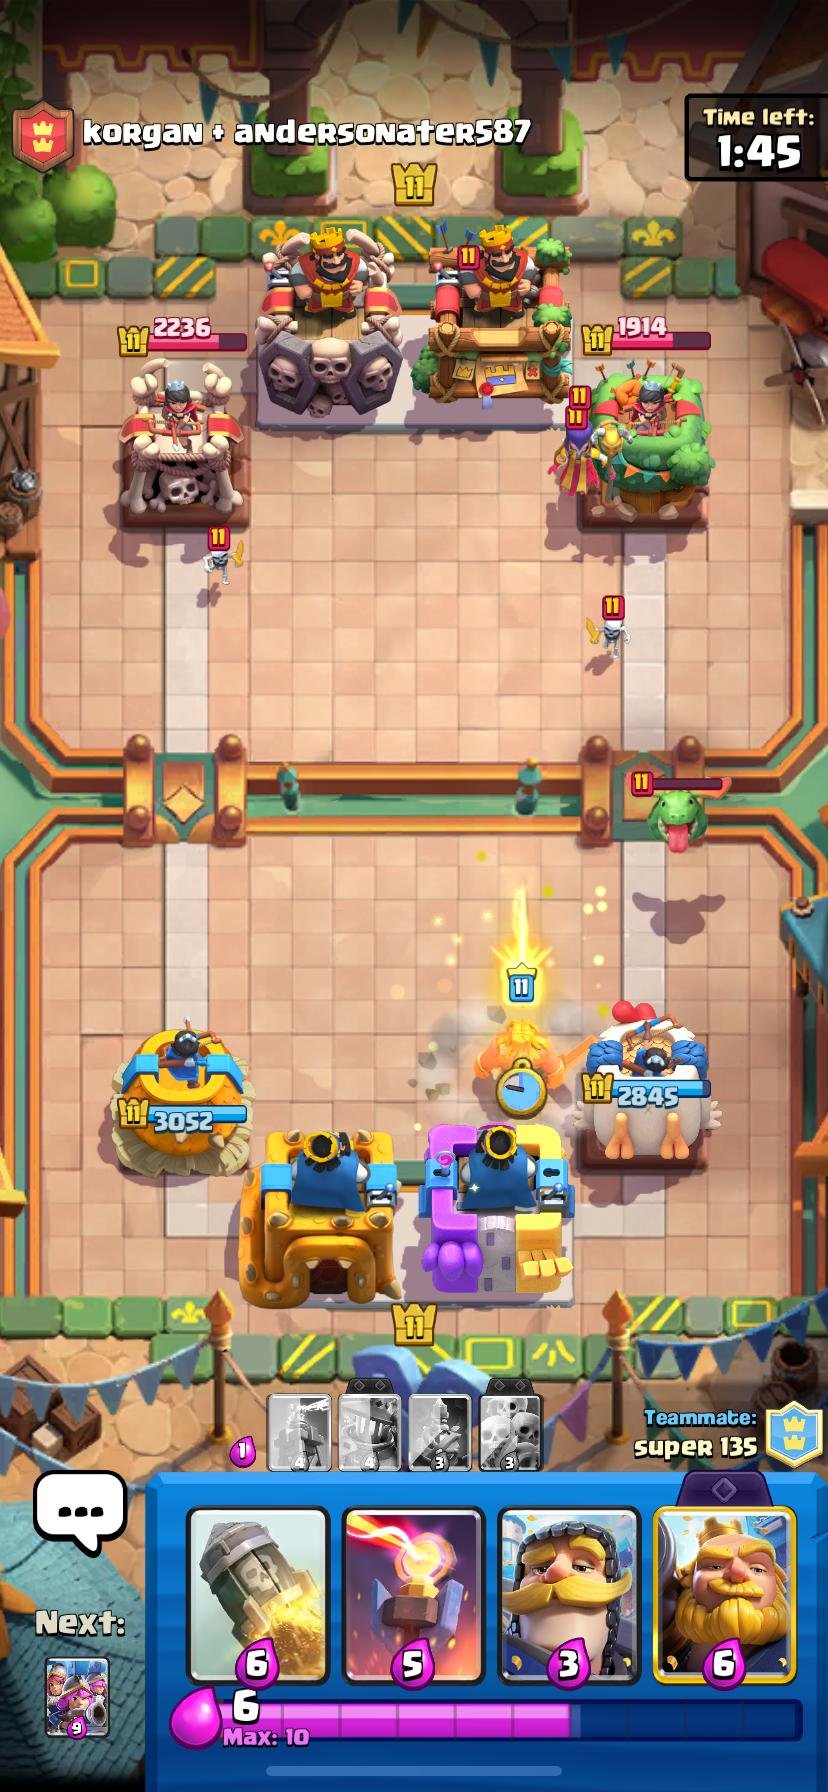EBabyDrag: (647, 777, 730, 854)
EKingTower: (412, 224, 571, 403), (256, 231, 402, 420)
ELarry: (586, 595, 629, 658), (205, 527, 242, 585)
EWitch: (550, 407, 599, 494)
EnemyPrincessTower: (586, 367, 714, 525), (119, 360, 242, 518)
ORoyalKnight: (473, 1019, 566, 1089)
OwnKingTower: (240, 1129, 402, 1306), (419, 1123, 573, 1300)
OwnPrincessTower: (111, 1023, 253, 1175), (582, 1002, 710, 1162)
